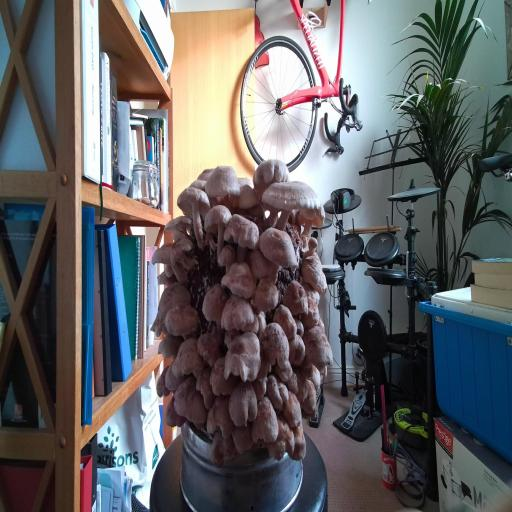Shiitake Mushroom: (244, 157, 336, 240), (238, 140, 311, 230), (164, 170, 229, 249), (210, 199, 275, 275), (193, 150, 254, 223), (253, 215, 302, 290), (249, 313, 303, 380), (165, 370, 215, 442), (141, 234, 204, 288), (144, 273, 203, 326), (210, 251, 268, 304), (198, 350, 247, 410), (289, 246, 344, 298), (272, 274, 322, 329), (196, 193, 236, 258), (262, 414, 303, 473), (188, 322, 229, 373), (196, 275, 233, 331), (224, 329, 262, 383), (219, 290, 258, 341), (273, 387, 313, 435), (266, 299, 306, 346), (246, 346, 276, 405), (259, 369, 295, 416), (302, 322, 334, 374), (205, 391, 237, 442), (156, 396, 193, 440), (291, 199, 333, 237), (243, 242, 275, 289), (228, 380, 259, 428), (207, 424, 239, 469), (171, 337, 204, 378), (251, 396, 279, 444), (167, 234, 199, 276), (294, 357, 330, 393), (225, 177, 263, 211), (251, 273, 281, 316), (211, 238, 243, 276), (299, 281, 323, 331), (159, 361, 189, 400), (296, 377, 324, 418), (164, 303, 199, 335), (216, 318, 249, 351), (153, 331, 187, 362), (235, 312, 267, 343), (145, 312, 174, 346), (292, 362, 311, 406), (231, 421, 254, 456), (162, 214, 196, 237), (281, 370, 306, 399), (300, 232, 321, 266), (289, 422, 306, 462), (194, 162, 220, 186), (288, 333, 306, 367), (291, 311, 307, 342), (155, 366, 170, 398), (186, 176, 211, 195), (254, 310, 269, 341), (273, 362, 293, 383), (298, 403, 320, 422), (158, 270, 179, 286), (319, 363, 329, 378)
